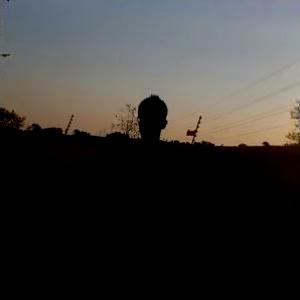follow: (80, 84, 183, 299)
